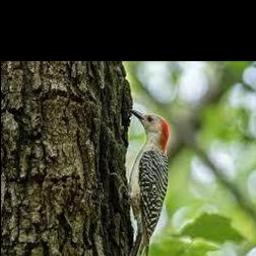Woodpecker: (108, 109, 169, 256)
